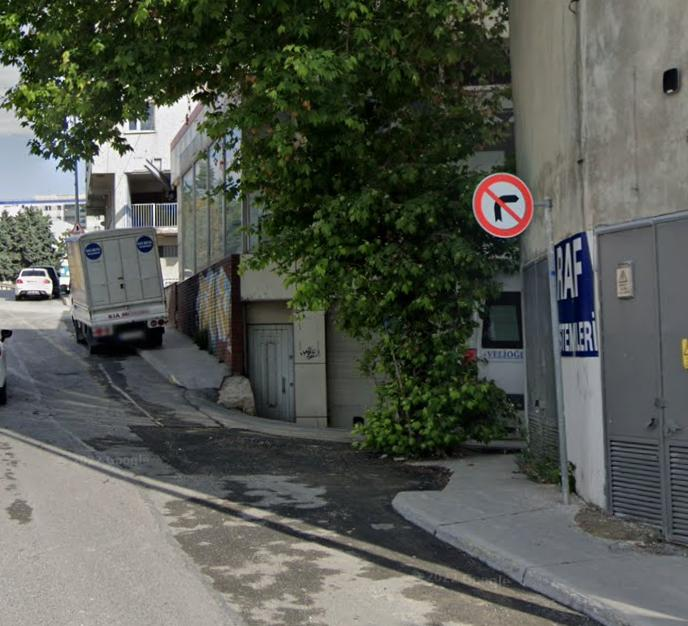rightturnsareforbidden: (475, 174, 534, 234)
